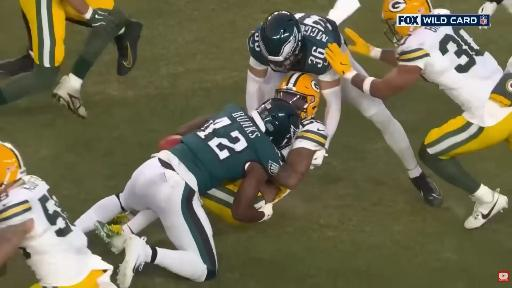Helmet: (259, 12, 302, 71), (256, 98, 300, 150), (382, 0, 432, 44), (275, 73, 320, 119), (0, 142, 26, 188)
Jersey: (0, 176, 113, 286), (398, 27, 502, 126), (171, 104, 281, 195), (290, 14, 343, 80), (282, 119, 328, 156), (491, 72, 511, 106)
Player: (326, 0, 511, 228), (75, 99, 299, 287), (246, 12, 442, 206), (0, 0, 142, 118), (0, 143, 115, 287), (275, 73, 327, 180), (479, 0, 511, 14)
